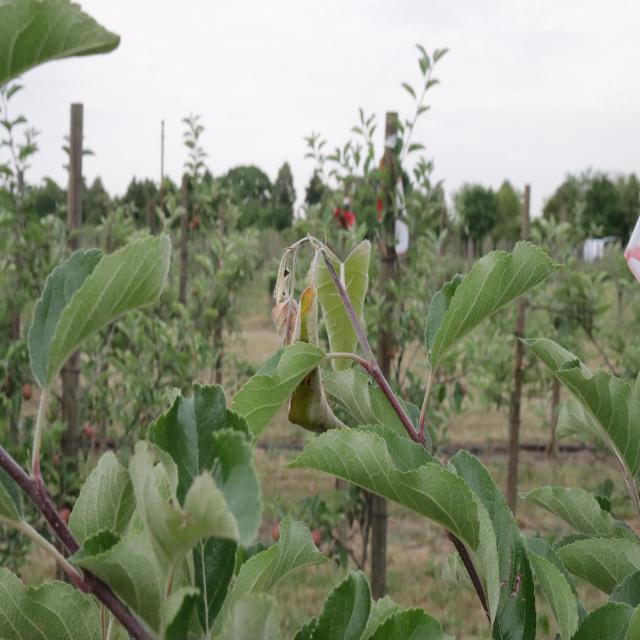-FireBlight-: (270, 234, 338, 439)
